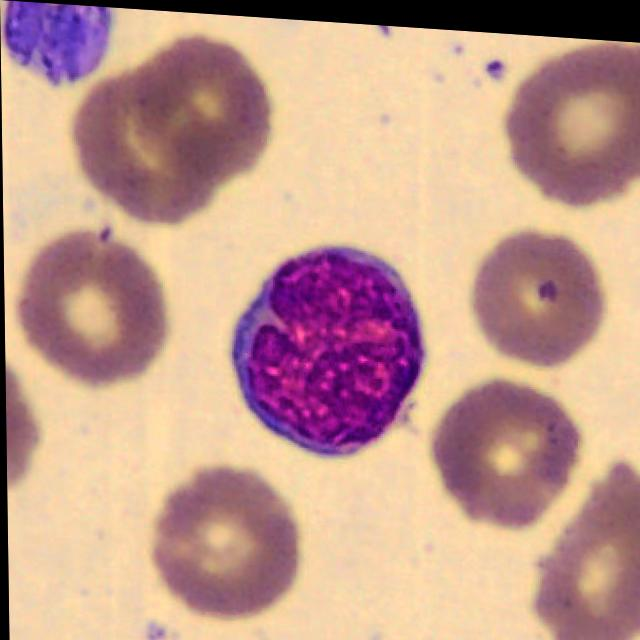Linfocito: (229, 240, 424, 452)
